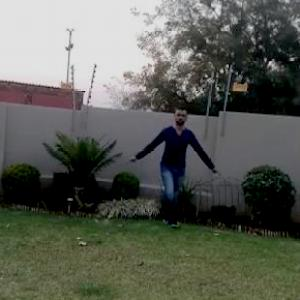land: (122, 105, 217, 230)
